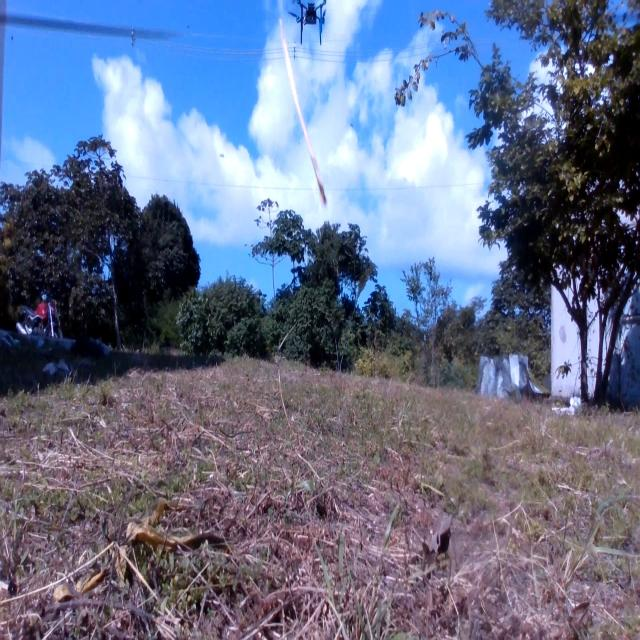-uav-: (284, 0, 334, 47)
